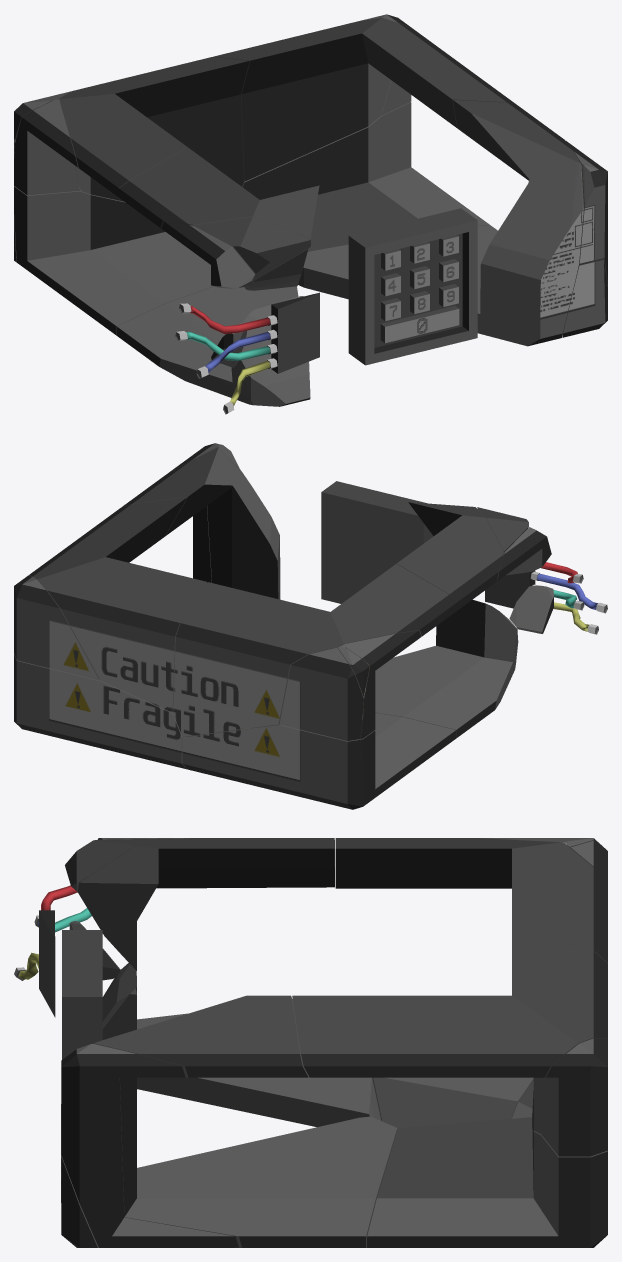
Rendered from BombShards.fbx.
3 renders of one model, top to bottom at view 1: azimuth 30°, elevation 25°; view 2: azimuth 150°, elevation 25°; view 3: azimuth 270°, elevation 25°, orthographic. The views are drawn at different scales.
Visible parts, largest first — view 1: Cube_cell.061, Cube_cell.144, Cube_cell.046, Cube_cell.060, Cube.001, Cube_cell.108, Cube_cell.064, Cube_cell.090, Cube.003, Cube_cell.130, Cube_cell.003, Cube_cell.146 (+3 smaller); view 2: Cube_cell.046, Cube_cell.061, Cube_cell.064, Cube_cell.108, Cube_cell.144, Cube_cell.082, Cube.001, Cube_cell.090, Cube_cell.139, Cube_cell.098, Cube_cell.060, Cube.003 (+6 smaller); view 3: Cube_cell.144, Cube_cell.061, Cube_cell.108, Cube_cell.046, Cube_cell.090, Cube_cell.146, Cube_cell.064, Cube_cell.060, Cube_cell.098, Cube.001, Cube.003, Cube_cell.003 (+2 smaller).
Boxes of the visible parts, left/top/right/bottom form: Cube_cell.061: left=213, top=18, right=515, bottom=181; Cube_cell.144: left=298, top=100, right=583, bottom=346; Cube_cell.046: left=59, top=57, right=249, bottom=201; Cube_cell.060: left=14, top=185, right=213, bottom=335; Cube.001: left=348, top=208, right=477, bottom=365; Cube_cell.108: left=242, top=102, right=489, bottom=251; Cube_cell.064: left=116, top=286, right=310, bottom=406; Cube_cell.090: left=119, top=147, right=319, bottom=290; Cube.003: left=175, top=292, right=319, bottom=414; Cube_cell.130: left=14, top=99, right=79, bottom=195; Cube_cell.003: left=194, top=216, right=310, bottom=281; Cube_cell.146: left=566, top=141, right=607, bottom=288; Cube_cell.046: left=173, top=564, right=458, bottom=736; Cube_cell.061: left=29, top=497, right=206, bottom=712; Cube_cell.064: left=375, top=599, right=518, bottom=738; Cube_cell.108: left=14, top=654, right=186, bottom=769; Cube_cell.144: left=122, top=447, right=280, bottom=599; Cube_cell.082: left=182, top=725, right=365, bottom=809; Cube.001: left=321, top=481, right=433, bottom=603; Cube_cell.090: left=396, top=502, right=503, bottom=609; Cube_cell.139: left=279, top=647, right=363, bottom=740; Cube_cell.098: left=14, top=575, right=99, bottom=680; Cube_cell.060: left=359, top=713, right=456, bottom=804; Cube.003: left=485, top=562, right=607, bottom=634; Cube_cell.144: left=61, top=995, right=397, bottom=1247; Cube_cell.061: left=292, top=929, right=607, bottom=1133; Cube_cell.108: left=367, top=1091, right=607, bottom=1247; Cube_cell.046: left=335, top=838, right=607, bottom=963; Cube_cell.090: left=77, top=838, right=334, bottom=970; Cube_cell.146: left=61, top=1044, right=238, bottom=1247; Cube_cell.064: left=102, top=963, right=381, bottom=1126; Cube_cell.060: left=372, top=1077, right=533, bottom=1128; Cube_cell.098: left=541, top=1038, right=607, bottom=1156; Cube.001: left=62, top=930, right=102, bottom=1059; Cube.003: left=14, top=885, right=91, bottom=1017; Cube_cell.003: left=65, top=838, right=181, bottom=891.
Bounding box in the file's own units: 138 × 137 × 55.4.
